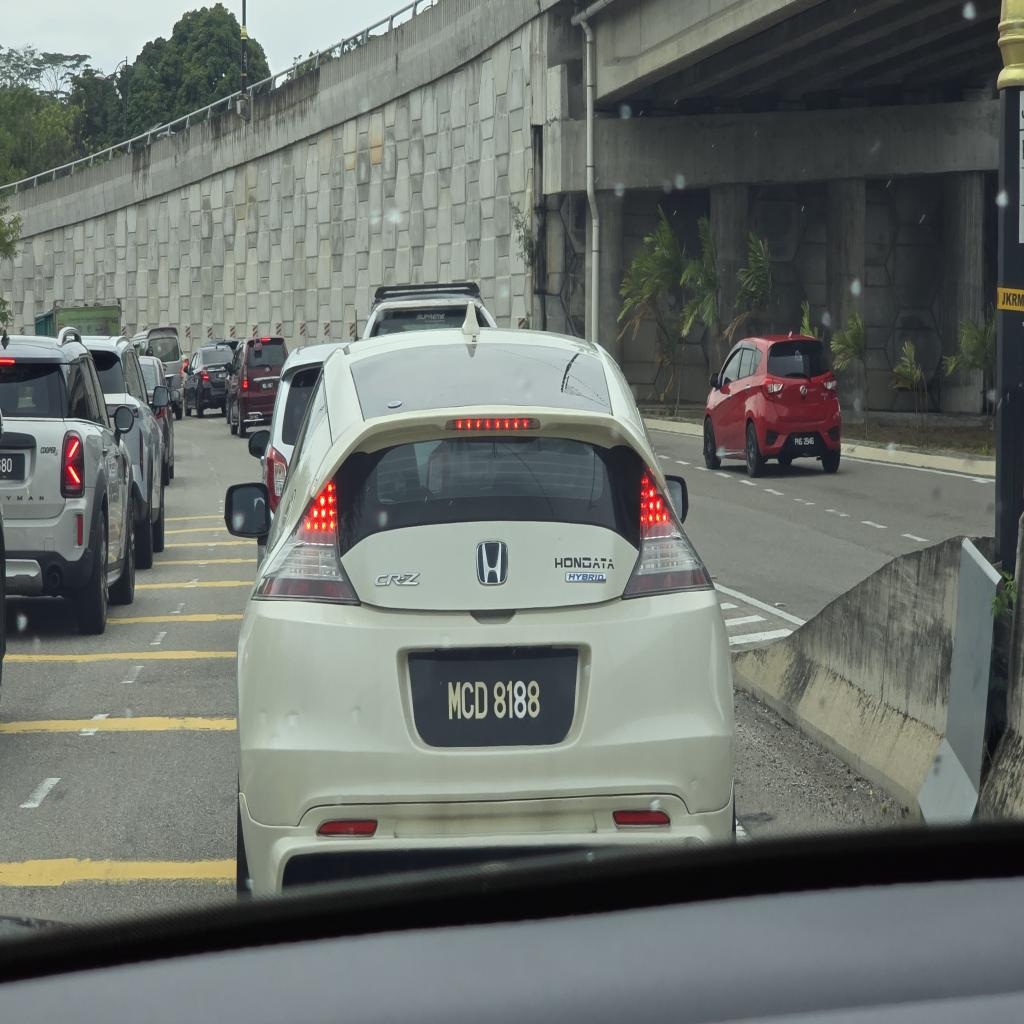car: (225, 316, 734, 893)
car plate: (409, 648, 577, 746)
